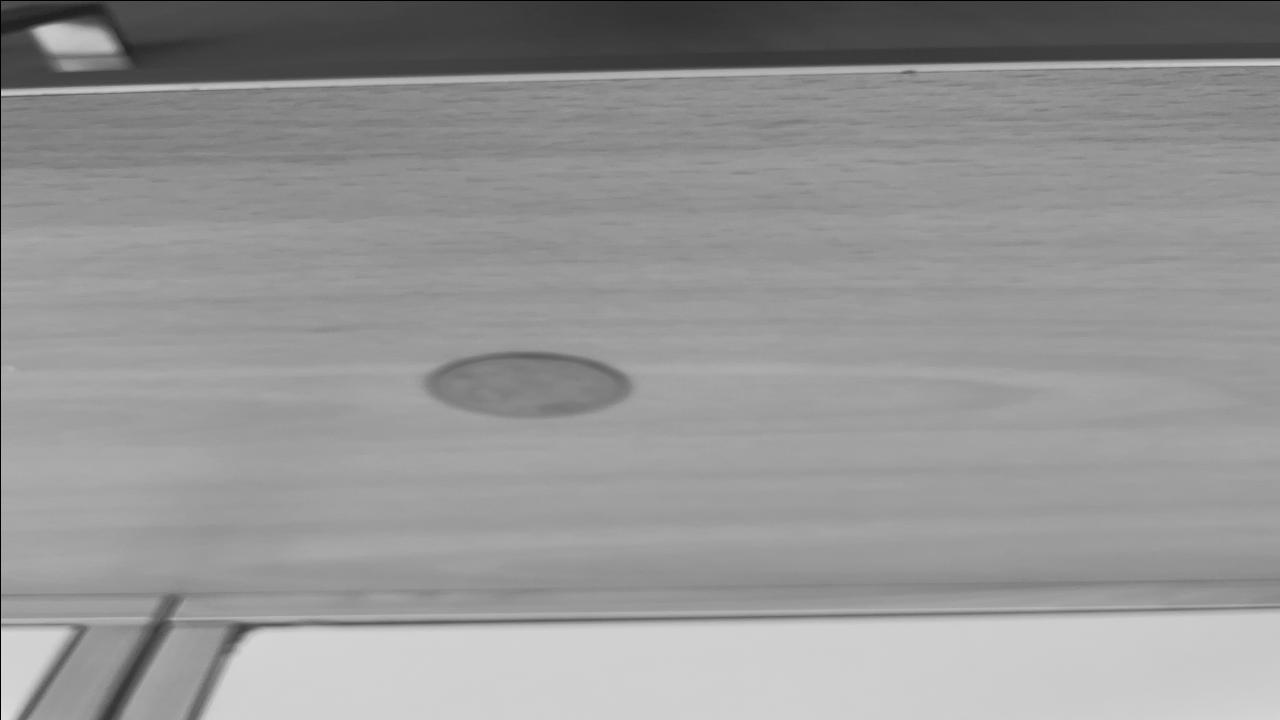coin: (420, 351, 632, 420)
